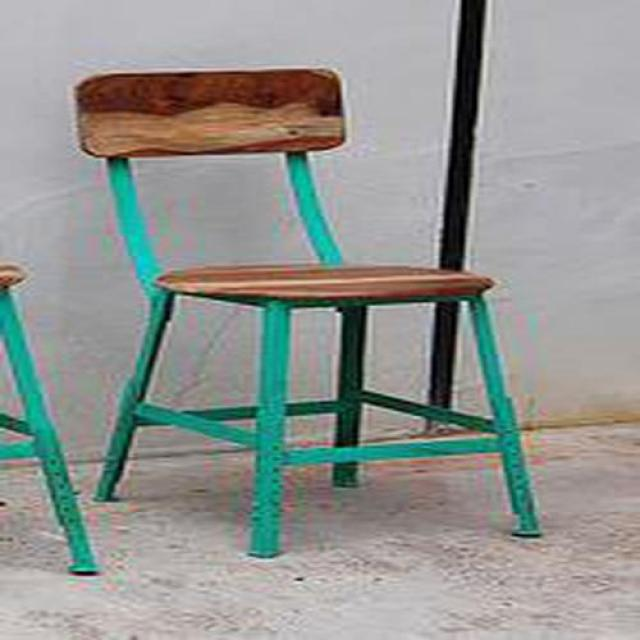chair: (74, 69, 545, 561)
